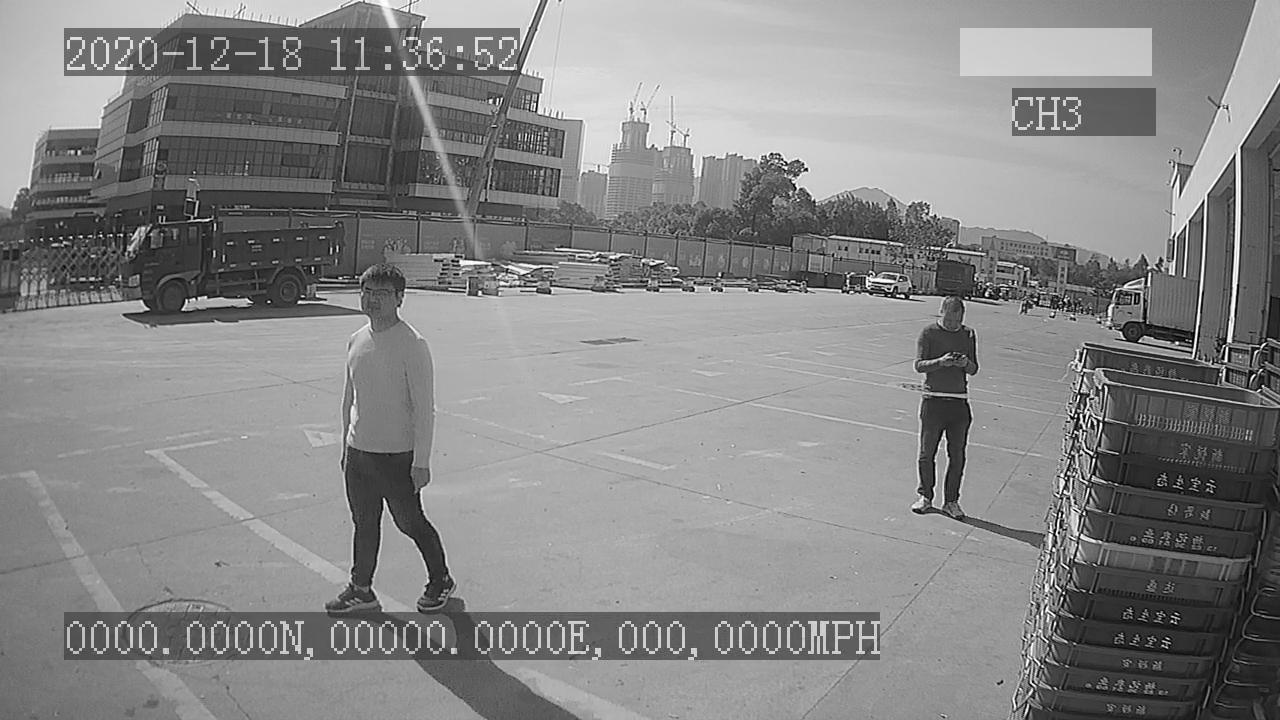person: (910, 294, 978, 520)
